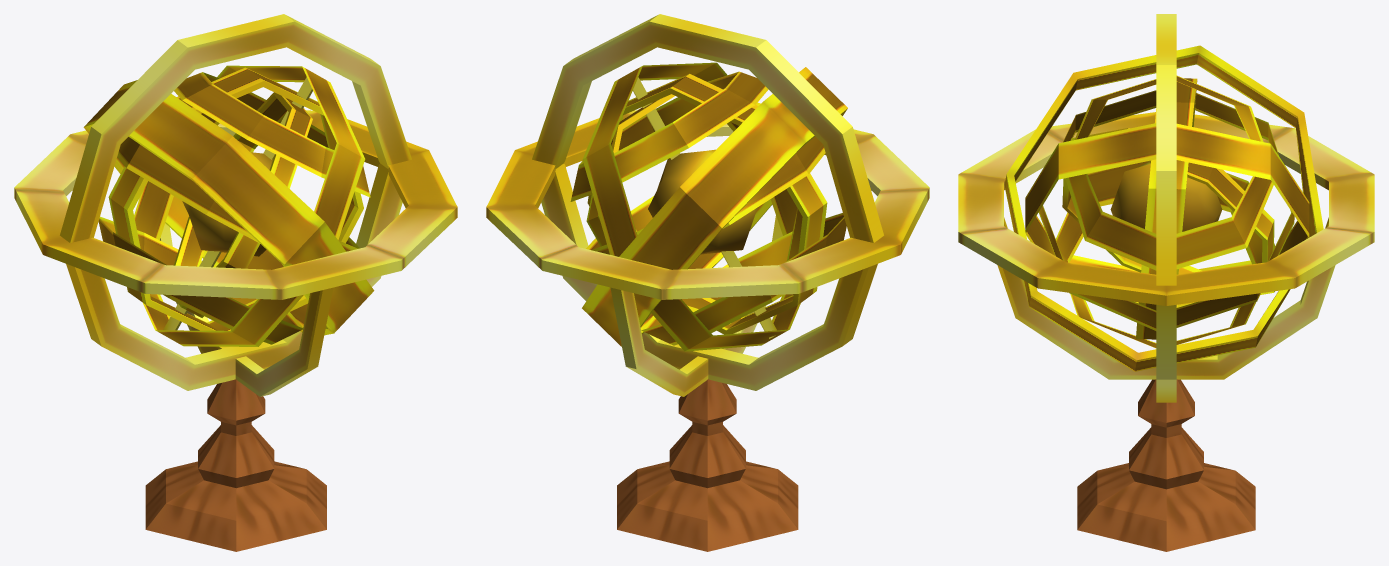
Rendered from Celestialglobe_HD.fbx.
3 renders of one model, left to right at view 1: azimuth 30°, elevation 25°; view 2: azimuth 150°, elevation 25°; view 3: azimuth 270°, elevation 25°, orthographic.
Parts seen in each view (by area): view 1: Celestialglobe; view 2: Celestialglobe; view 3: Celestialglobe.
Part boxes in pixels (x1=…): Celestialglobe: x1=14, y1=14, x2=457, y2=551; Celestialglobe: x1=486, y1=14, x2=929, y2=551; Celestialglobe: x1=958, y1=14, x2=1374, y2=551.
Bounding box in the file's own units: 0.9662 × 1.14 × 0.9189.
